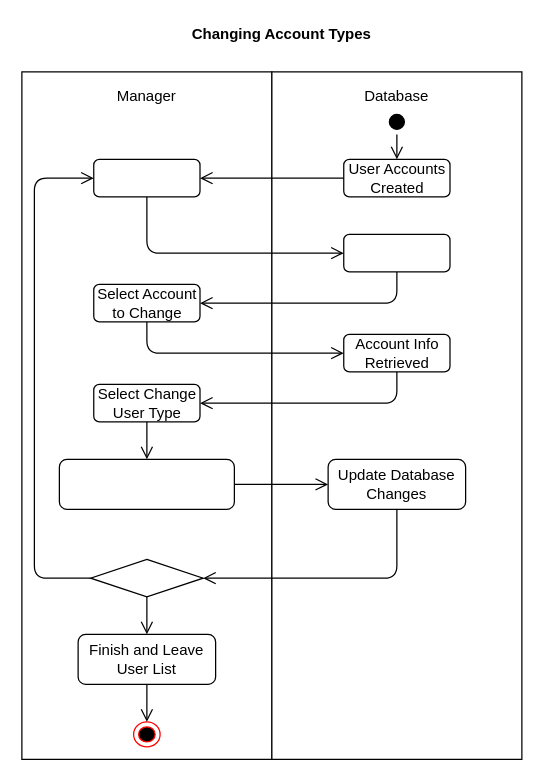
The diagram is 544 pixels wide and 781 high, and some of its shapes have lost their labels. The box of each missing label's shape, as (x1, y1, x2, y2) in pixels:
Choose Type of Account To Change User To: (58, 458, 234, 509)
Open List of Users: (92, 158, 200, 197)
User List Retrieved: (342, 233, 450, 272)
